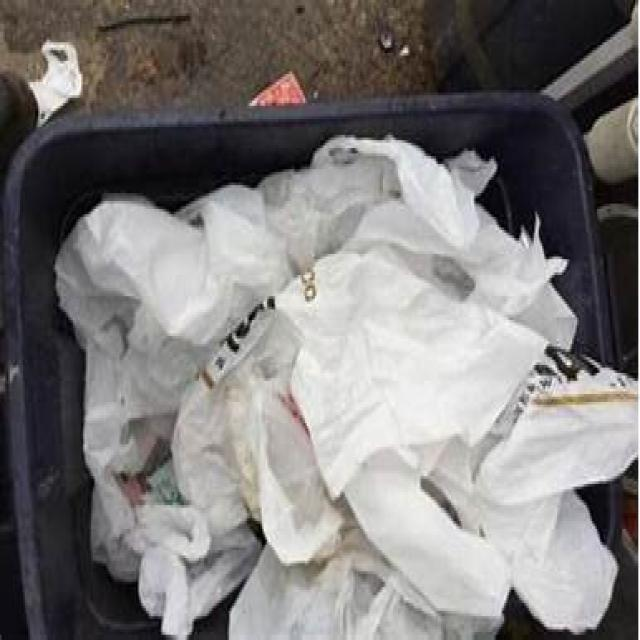Garbage: (57, 137, 638, 637)
Plastic: (202, 297, 275, 386)
Plastic_Bag: (56, 138, 576, 577), (279, 251, 636, 631), (134, 313, 498, 638)
